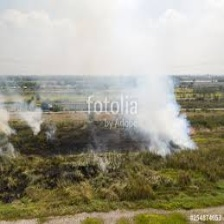smoke: (132, 69, 184, 144), (1, 50, 46, 133)
